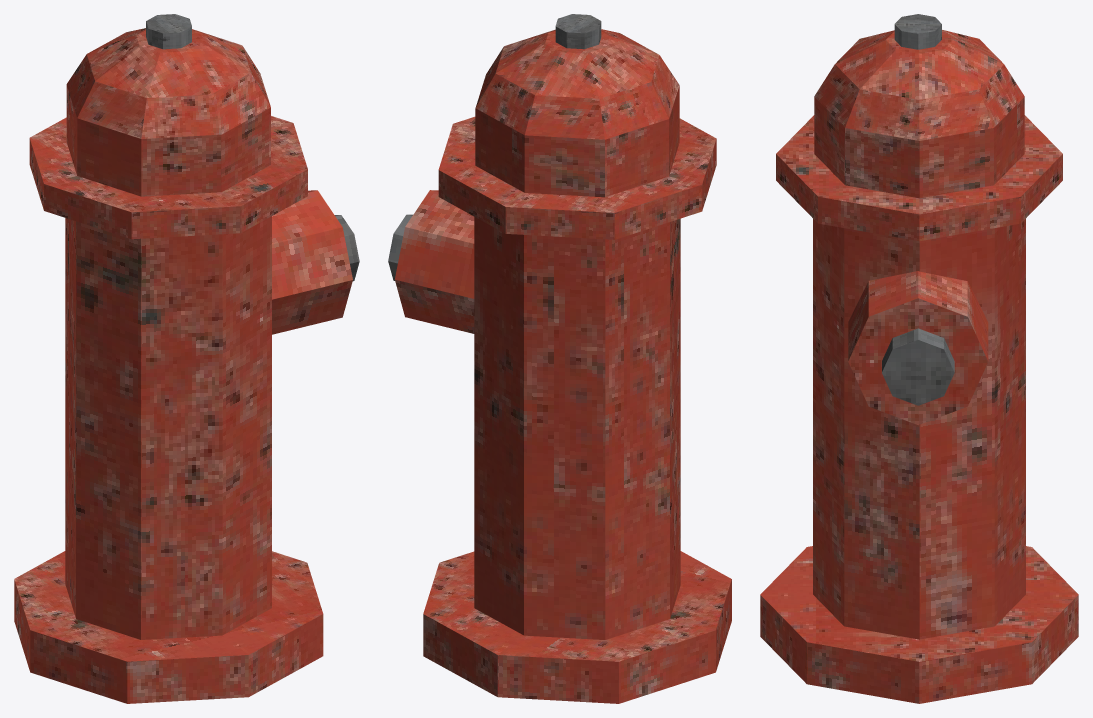
Rendered from firehydrant.glb.
The picture shows the model from 3 angles, left to right: view 1: azimuth 30°, elevation 25°; view 2: azimuth 150°, elevation 25°; view 3: azimuth 270°, elevation 25°; orthographic projection.
Visible parts, largest first — view 1: firehydrant; view 2: firehydrant; view 3: firehydrant.
Part boxes in pixels (x1=…): firehydrant: x1=14, y1=14, x2=359, y2=703; firehydrant: x1=388, y1=14, x2=731, y2=703; firehydrant: x1=760, y1=14, x2=1078, y2=703.
Bounding box in the file's own units: 0.6986 × 1.32 × 0.6234.
Materials: 2 (2 with a texture image).
